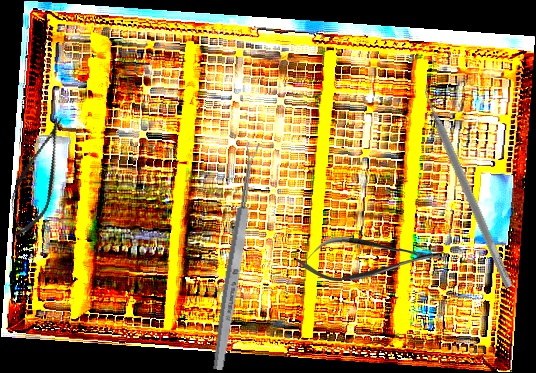Micro Scissor: (0, 110, 77, 242), (296, 234, 445, 284)
Spatula Surgical: (415, 80, 523, 289)
Surgical Spoon: (210, 141, 262, 371)
